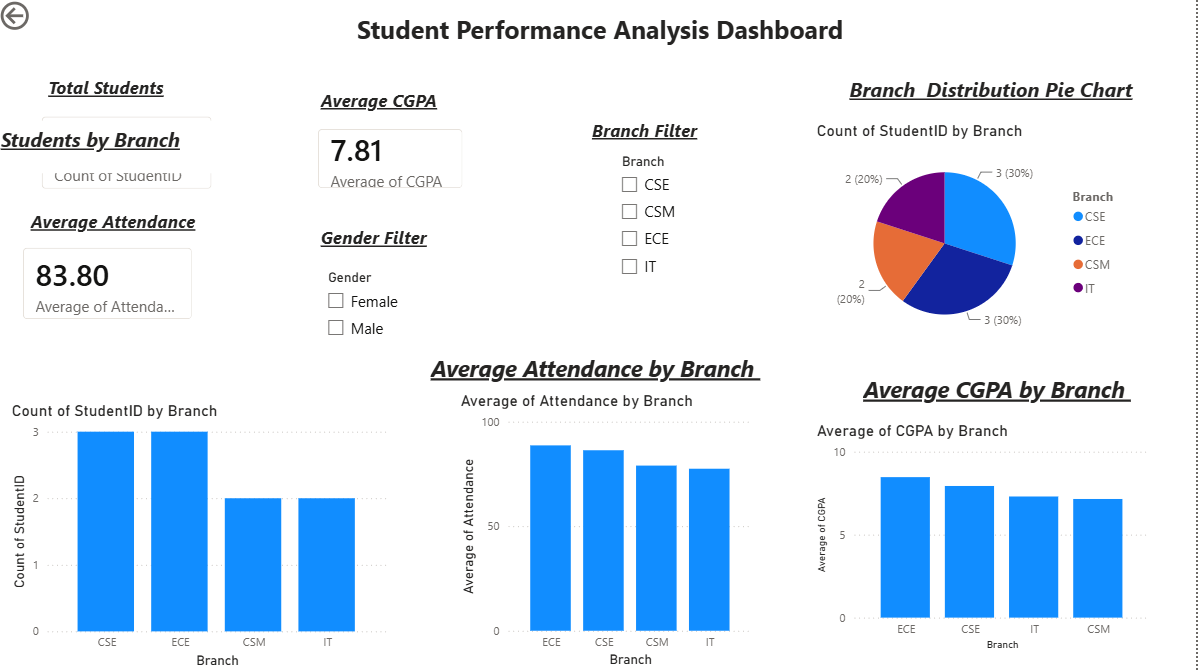

The dashboard page shown, as its layout file describes it:
{"tool":"powerbi","page":{"name":"Page 1","canvas":[1280,720],"ordinal":0},"visuals":[{"type":"actionButton","box":[0,0,100,40],"z":0},{"type":"textbox","box":[380,10,780,58.6],"z":1000},{"type":"cardVisual","fields":{"Data":["CountNonNull(Sheet1.StudentID)"]},"box":[31.4,110,215.7,111.4],"z":2000},{"type":"cardVisual","fields":{"Data":["Avg(Sheet1.Attendance)"]},"box":[11.4,250,214.3,110],"z":3000},{"type":"cardVisual","fields":{"Data":["Avg(Sheet1.CGPA)"]},"box":[327.1,124.3,188.6,97.1],"z":4000},{"type":"clusteredColumnChart","fields":{"Category":["Sheet1.Branch"],"Y":["CountNonNull(Sheet1.StudentID)"]},"box":[11.4,430,410,290],"z":5000},{"type":"clusteredColumnChart","fields":{"Category":["Sheet1.Branch"],"Y":["Avg(Sheet1.Attendance)"]},"box":[490,420,321.4,300],"z":6000},{"type":"clusteredColumnChart","fields":{"Category":["Sheet1.Branch"],"Y":["Avg(Sheet1.CGPA)"]},"box":[870,451.4,365.7,250],"z":7000},{"type":"slicer","fields":{"Values":["Sheet1.Branch"]},"box":[655.1,162.2,157.8,168.6],"z":8000},{"type":"pieChart","fields":{"Category":["Sheet1.Branch"],"Y":["CountNonNull(Sheet1.StudentID)"]},"box":[870,131.4,345.7,242.9],"z":9000},{"type":"textbox","box":[50,78.6,175.7,45.7],"z":10000},{"type":"slicer","fields":{"Values":["Sheet1.Gender"]},"box":[341.4,285.7,148.6,120],"z":11000},{"type":"textbox","box":[341.4,91.4,188.6,40],"z":12000},{"type":"textbox","box":[31.4,221.4,194.3,41.4],"z":13000},{"type":"textbox","box":[630,124.3,151.4,37.1],"z":14000},{"type":"textbox","box":[341.4,238.6,198.6,37.1],"z":15000},{"type":"textbox","box":[31.8,385.2,348.5,45.2],"z":16000},{"type":"textbox","box":[905.7,78.6,347.1,45.7],"z":17000},{"type":"textbox","box":[458.6,374.3,375.7,45.7],"z":18000},{"type":"textbox","box":[920,397.1,315.7,42.9],"z":19000}]}

Visuals, with their boxes in screenshot pixels (x1, y1, x2, y2), scaled from the page's 1280x720 canvas onto the 1198x672 screenshot:
actionButton: select_region(0, 0, 94, 37)
textbox: select_region(356, 9, 1086, 64)
cardVisual - CountNonNull(Sheet1.StudentID): select_region(29, 103, 231, 207)
cardVisual - Avg(Sheet1.Attendance): select_region(11, 233, 211, 336)
cardVisual - Avg(Sheet1.CGPA): select_region(306, 116, 483, 207)
clusteredColumnChart - Sheet1.Branch x CountNonNull(Sheet1.StudentID): select_region(11, 401, 394, 671)
clusteredColumnChart - Sheet1.Branch x Avg(Sheet1.Attendance): select_region(459, 392, 759, 671)
clusteredColumnChart - Sheet1.Branch x Avg(Sheet1.CGPA): select_region(814, 421, 1157, 655)
slicer - Sheet1.Branch: select_region(613, 151, 761, 309)
pieChart - Sheet1.Branch x CountNonNull(Sheet1.StudentID): select_region(814, 123, 1138, 349)
textbox: select_region(47, 73, 211, 116)
slicer - Sheet1.Gender: select_region(320, 267, 459, 379)
textbox: select_region(320, 85, 496, 123)
textbox: select_region(29, 207, 211, 245)
textbox: select_region(590, 116, 731, 151)
textbox: select_region(320, 223, 505, 257)
textbox: select_region(30, 360, 356, 402)
textbox: select_region(848, 73, 1173, 116)
textbox: select_region(429, 349, 781, 392)
textbox: select_region(861, 371, 1157, 411)
